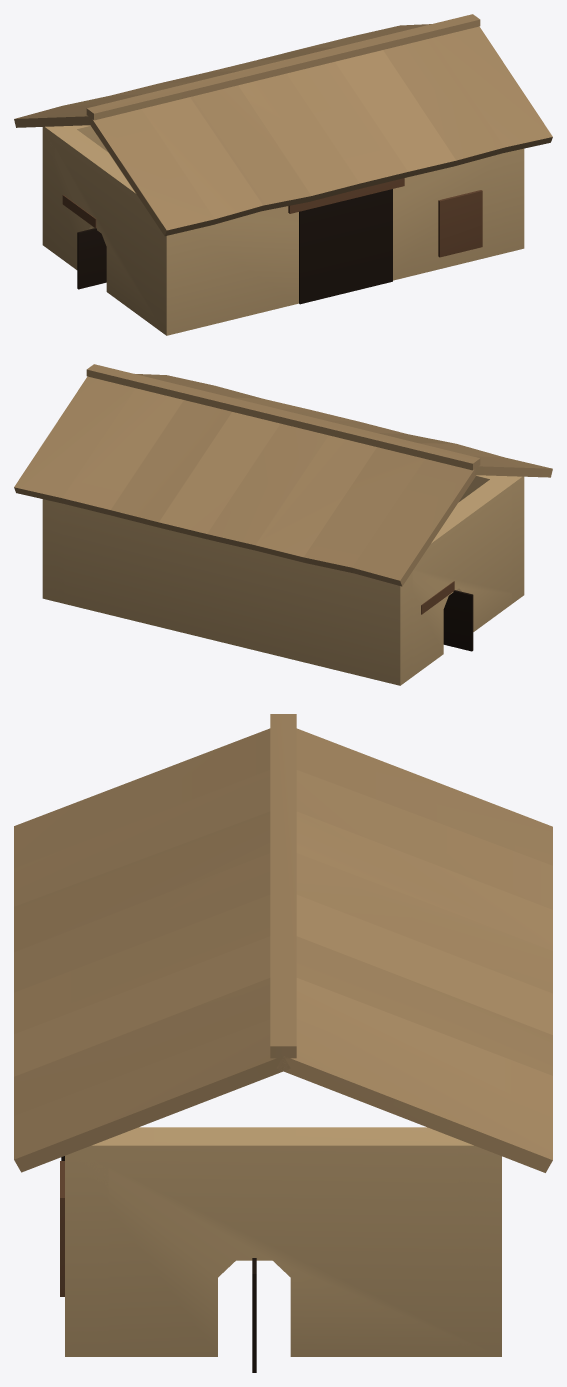
Rendered from republic_warehouse_lod0.glb.
3 renders of one model, top to bottom at view 1: azimuth 30°, elevation 25°; view 2: azimuth 150°, elevation 25°; view 3: azimuth 270°, elevation 25°, orthographic. The views are drawn at different scales.
Parts seen in each view (by area): view 1: GEO-Arch_republic_warehouse_LOD0; view 2: GEO-Arch_republic_warehouse_LOD0; view 3: GEO-Arch_republic_warehouse_LOD0.
Boxes of the visible parts, x1,y1,x2,y2 form: GEO-Arch_republic_warehouse_LOD0: (14, 14, 552, 335); GEO-Arch_republic_warehouse_LOD0: (14, 364, 552, 685); GEO-Arch_republic_warehouse_LOD0: (14, 714, 552, 1372).
Size of the model in its own units: 11.04 by 4.89 by 7.4.
